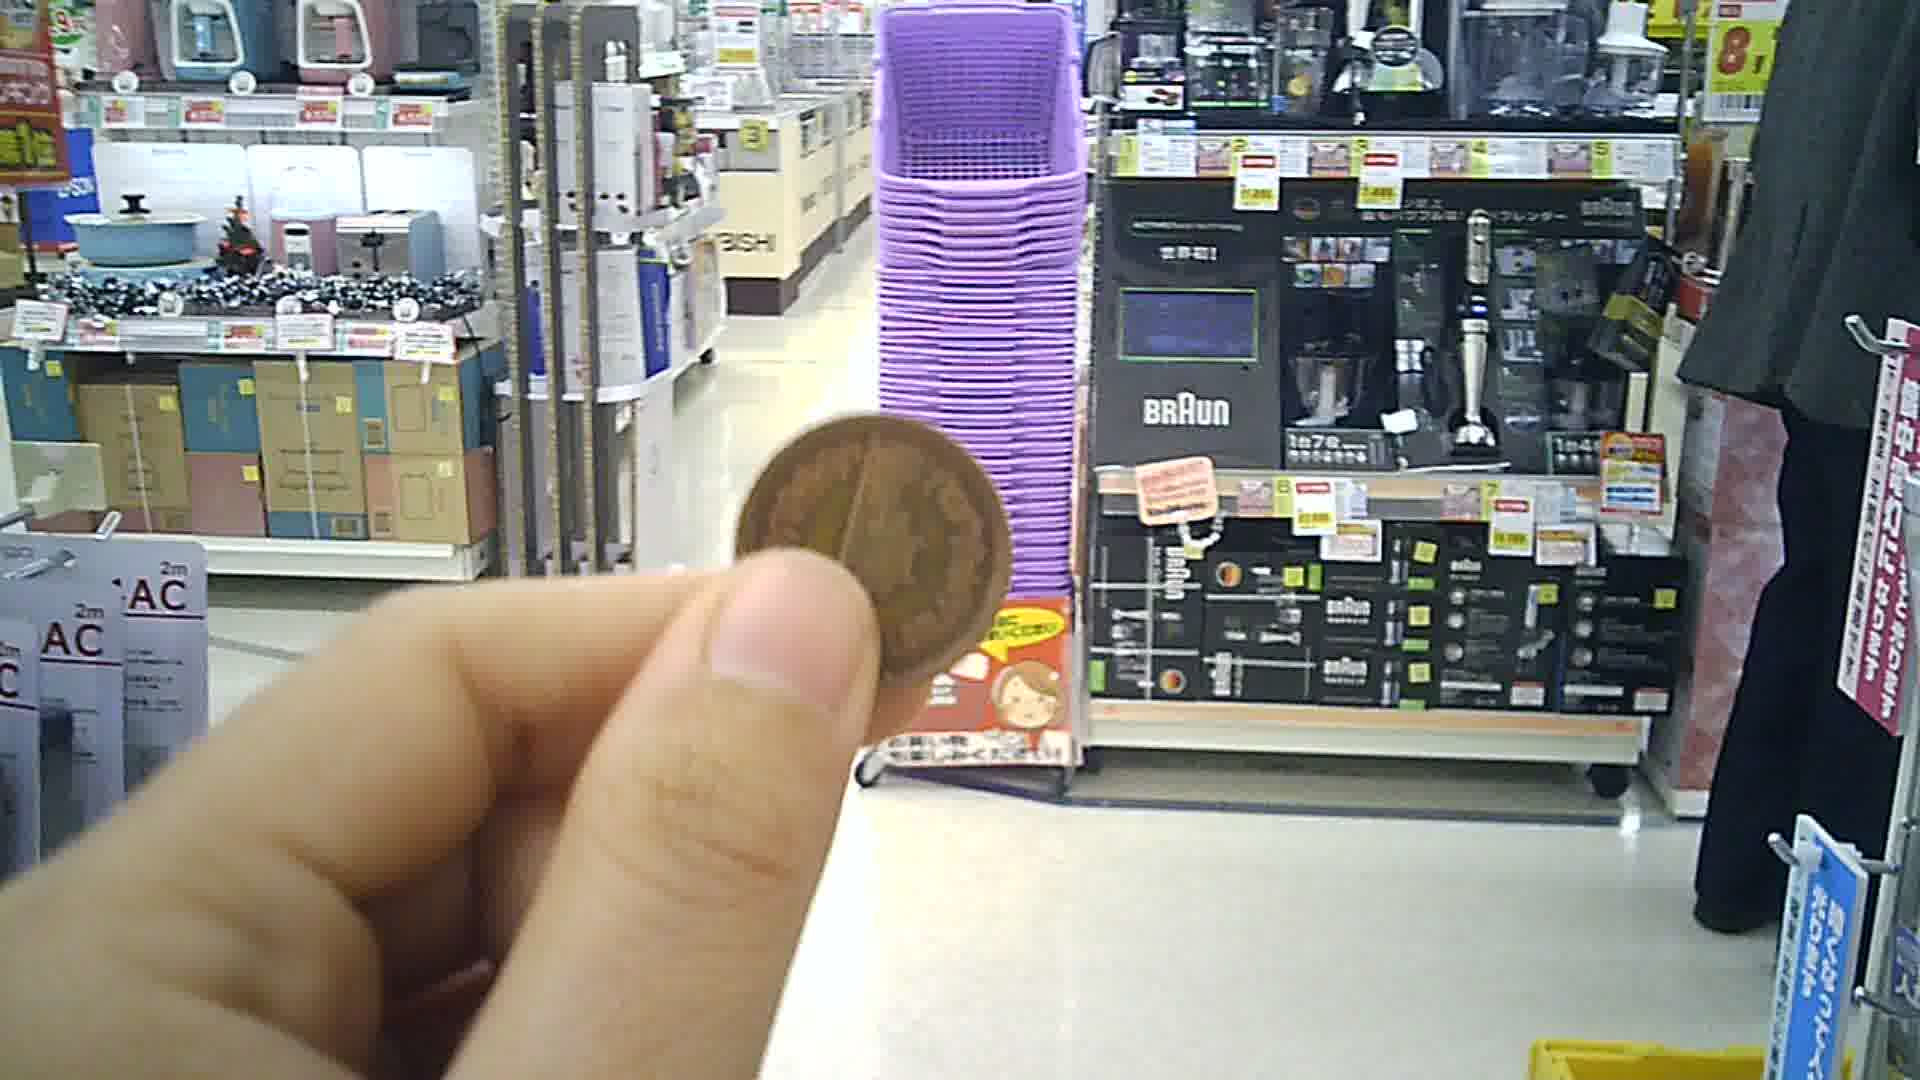10 Yen: (732, 410, 1038, 684)
